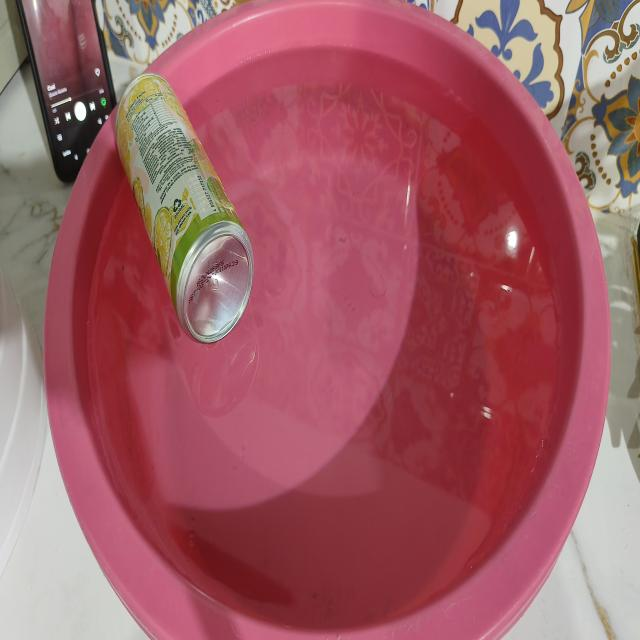Aluminum Can: (85, 50, 288, 392)
